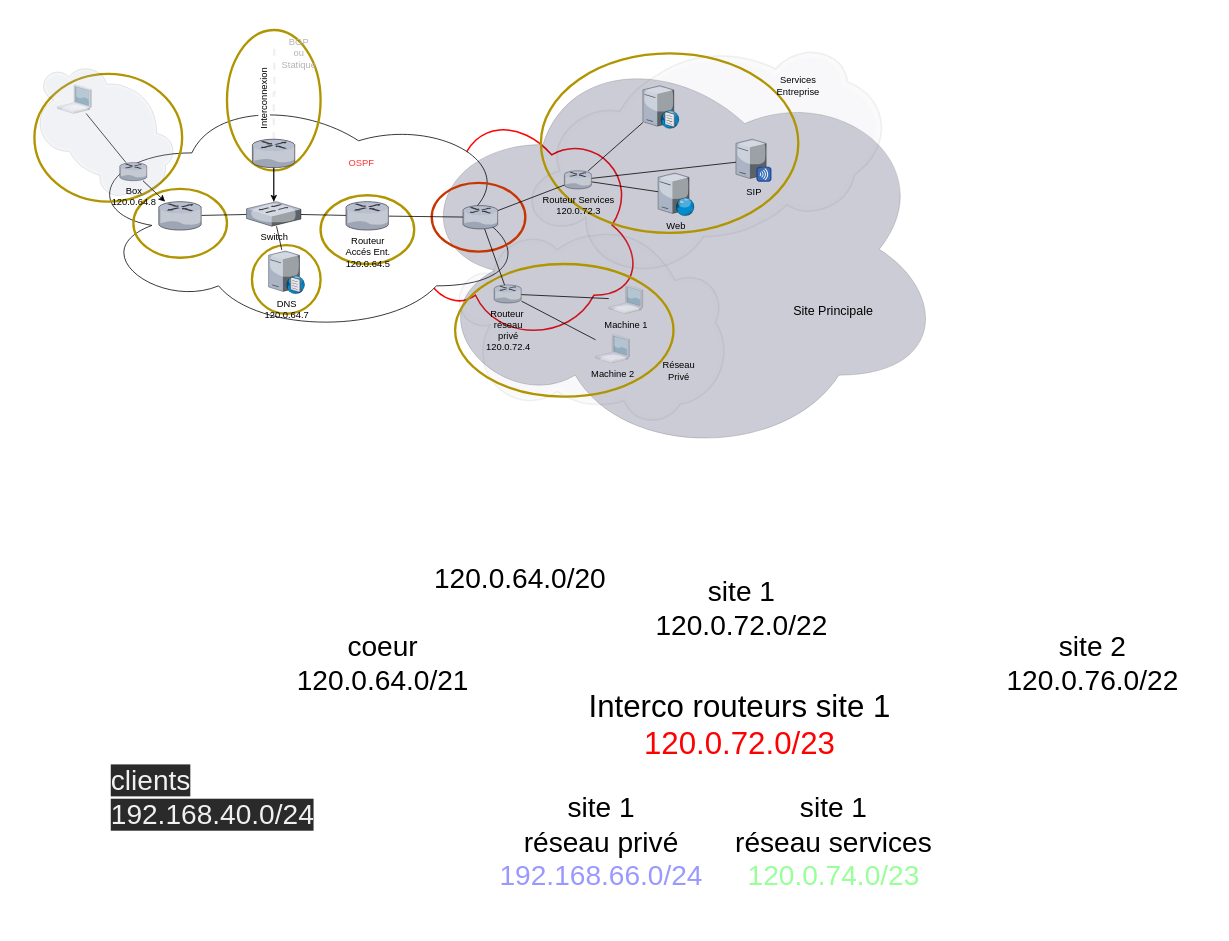
The diagram is 1229 pixels wide and 941 high, and some of its shapes have lost their labels. The centre of each missing label's shape, as x and y in pixels:
(DNS): point 660,106
Client: point 74,98
Routeur Accés 120.0.64.4: point 179,215
Routeur Ent. 120.0.64.6 120.0.72.2: point 480,217
Routeur Interco 120.0.64.3: point 273,153
